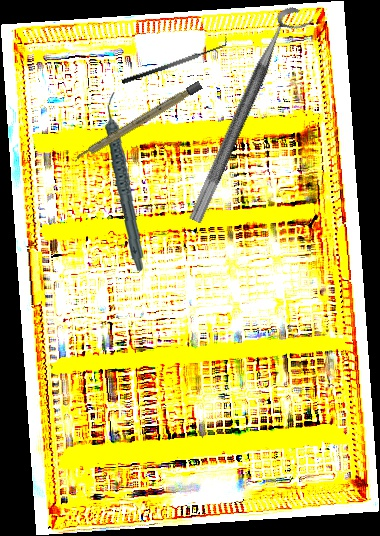Fixation Ring: (187, 3, 316, 232)
Handpiece: (97, 91, 155, 272)
Scalpel Handle: (72, 80, 203, 165)
Spatula Surgical: (118, 35, 231, 86)
